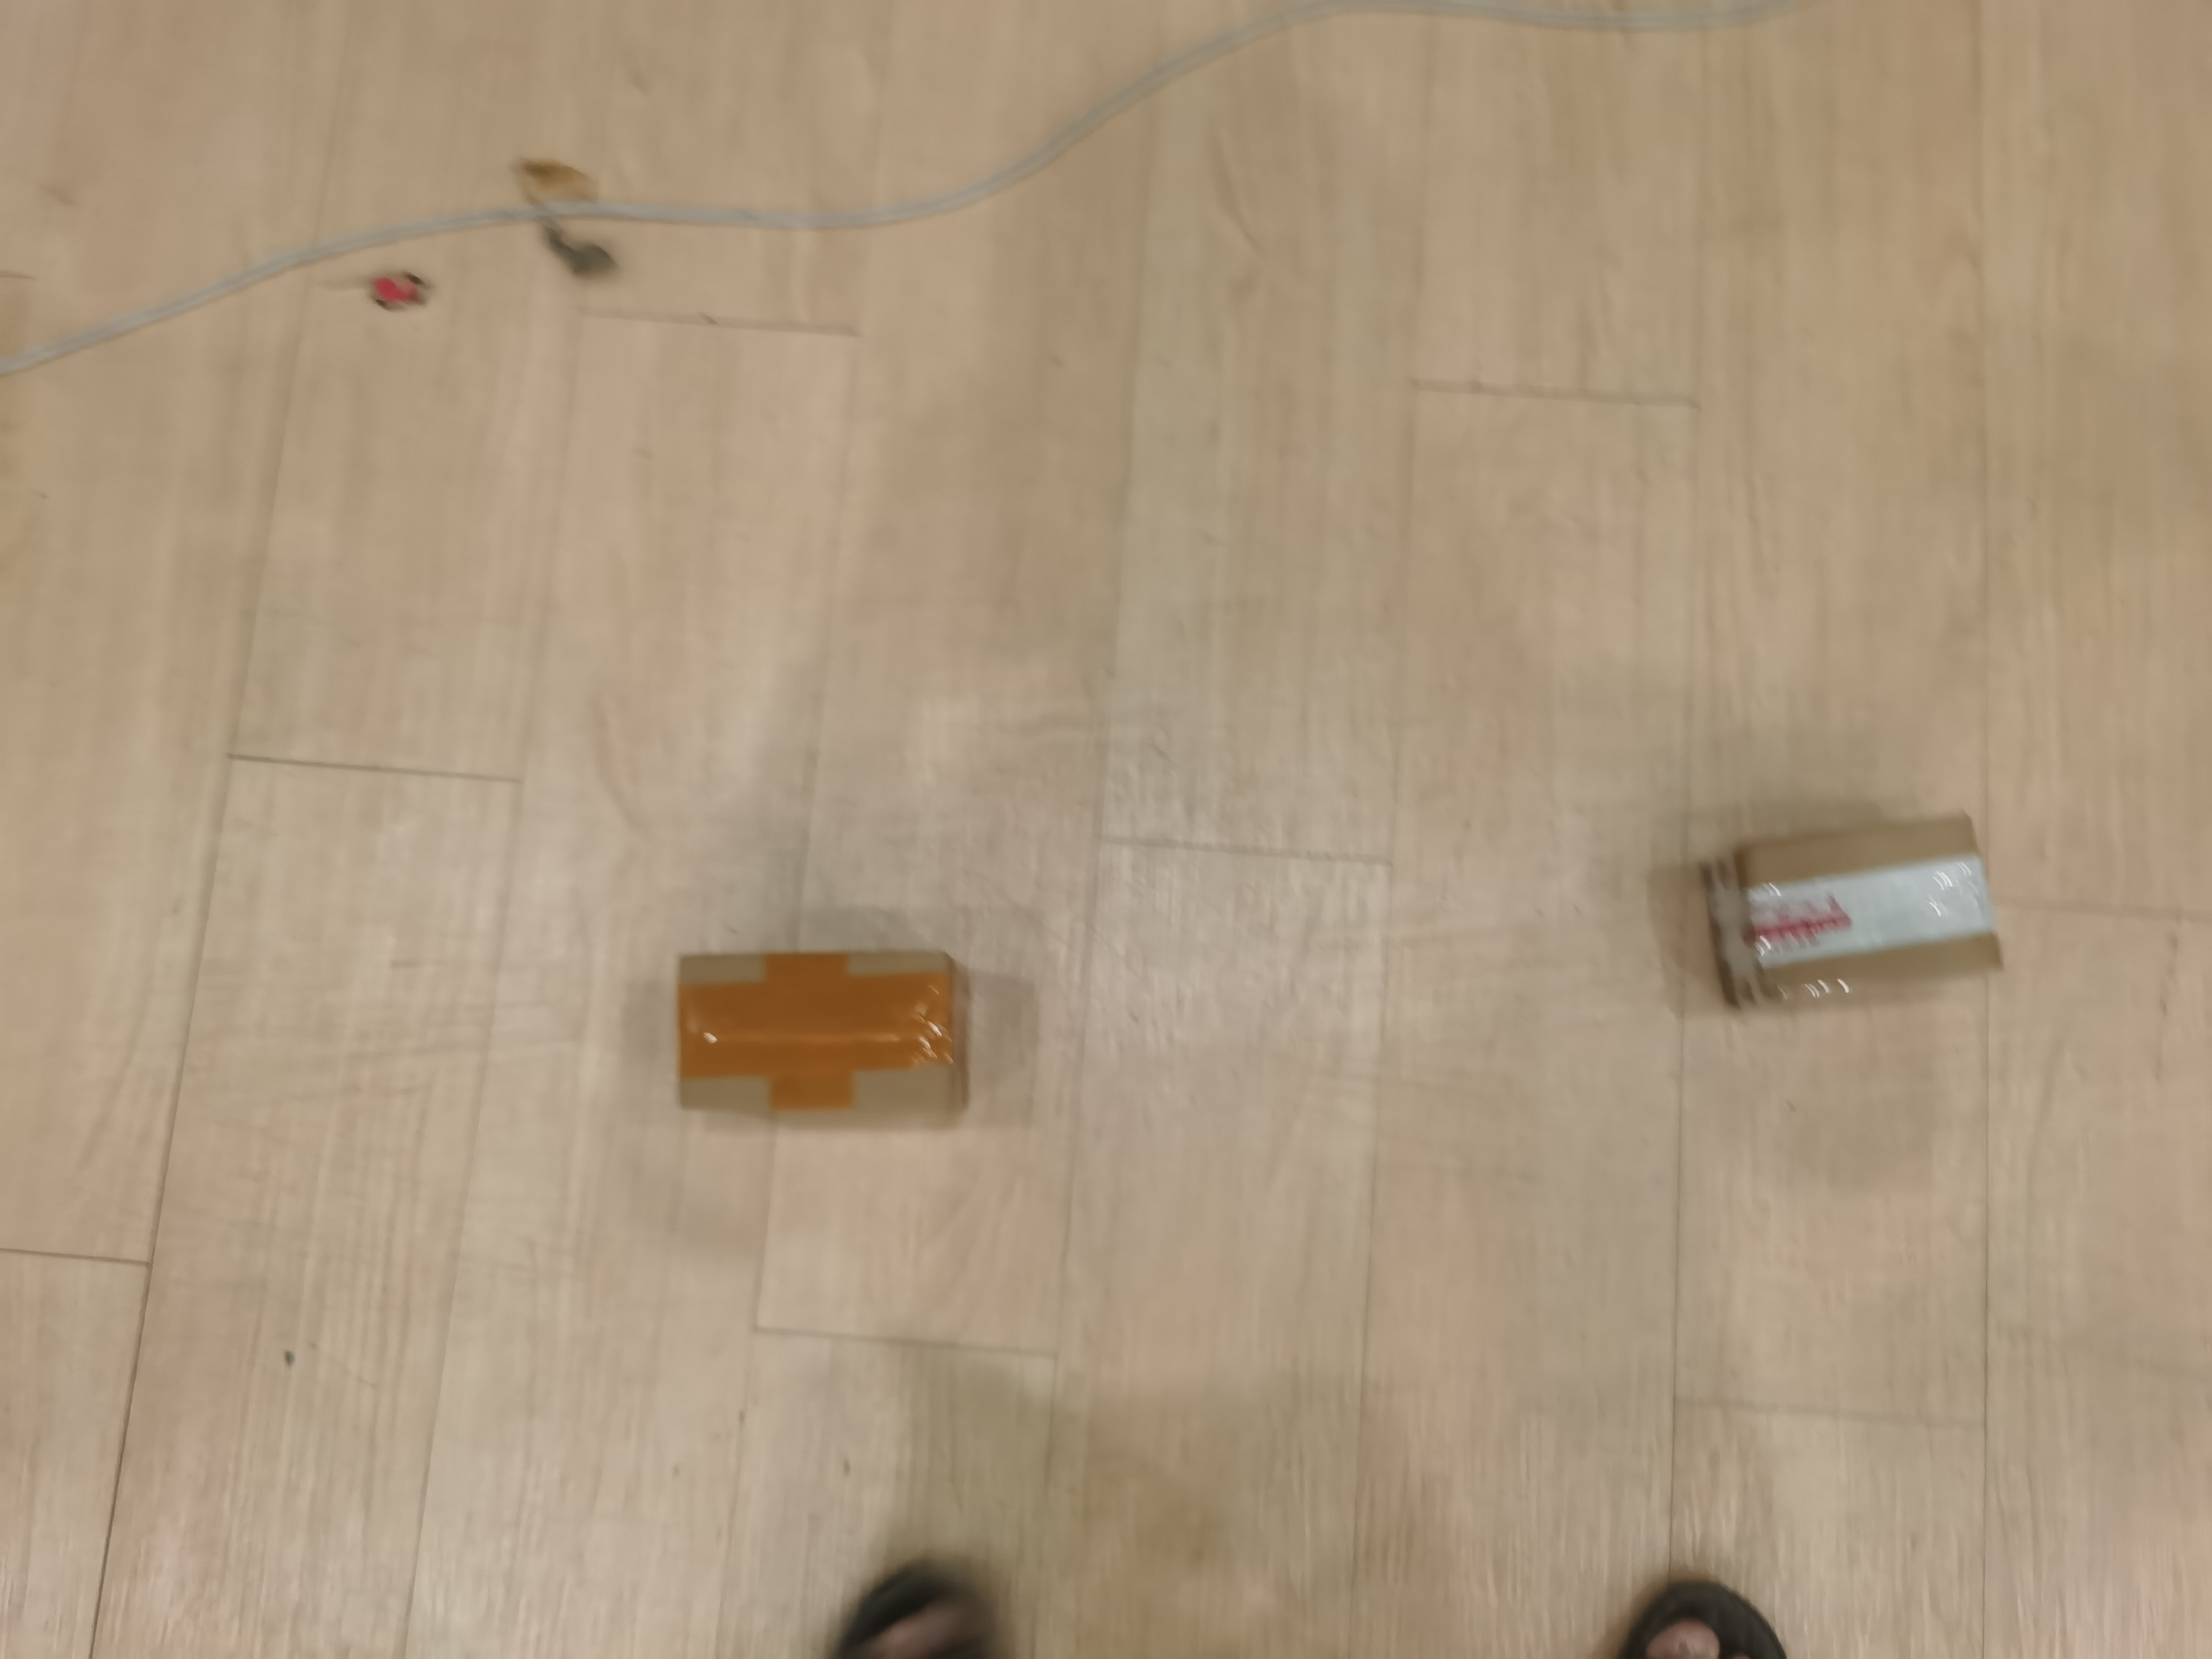box: (1684, 805, 2015, 1030), (671, 945, 993, 1136)
